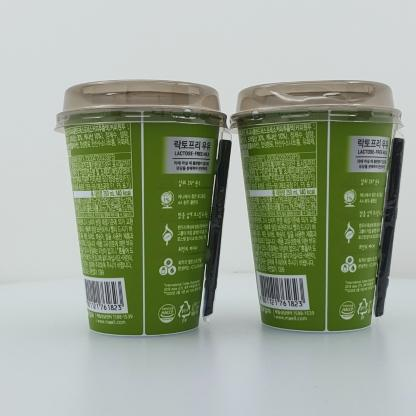-------------------: (55, 79, 233, 336), (227, 79, 406, 332)
